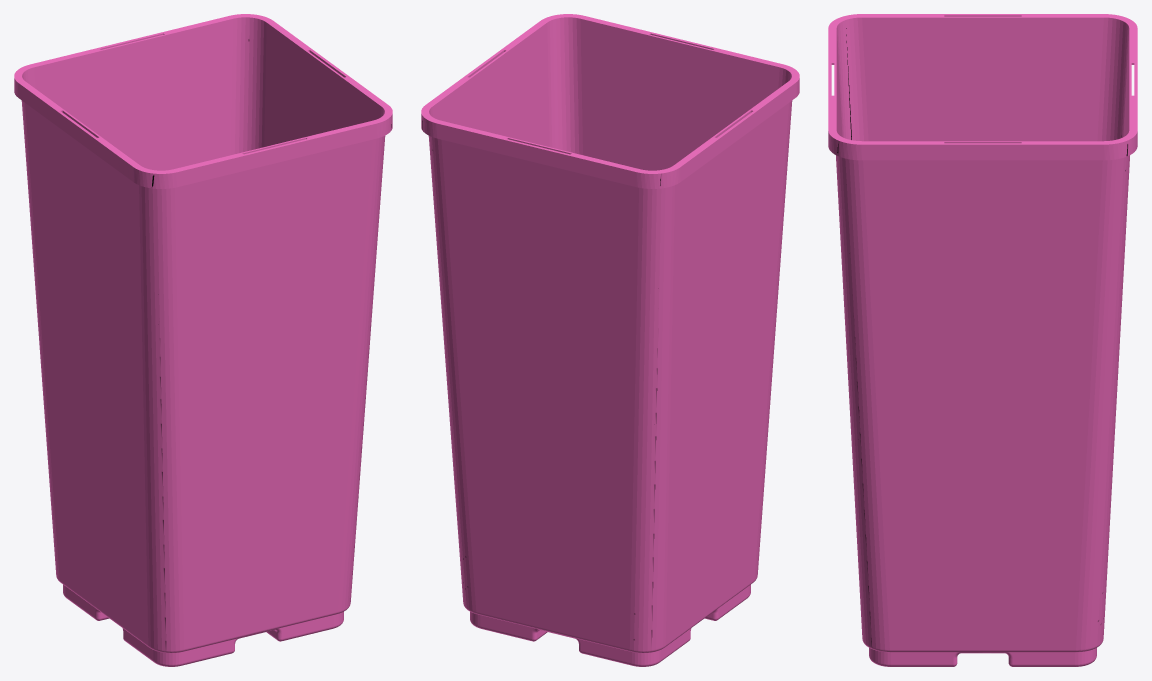
File: reciclaje.dae
3 views of the same model, side by side, from view 1: azimuth 30°, elevation 25°; view 2: azimuth 150°, elevation 25°; view 3: azimuth 270°, elevation 25° (orthographic). The views are drawn at different scales.
Parts seen in each view (by area): view 1: 3005202050; view 2: 3005202050; view 3: 3005202050.
Part boxes in pixels (x1=…): 3005202050: x1=14, y1=14, x2=392, y2=666; 3005202050: x1=421, y1=14, x2=799, y2=666; 3005202050: x1=828, y1=14, x2=1137, y2=666.
Size of the model in its own units: 0.3357 by 0.3357 by 0.648.
